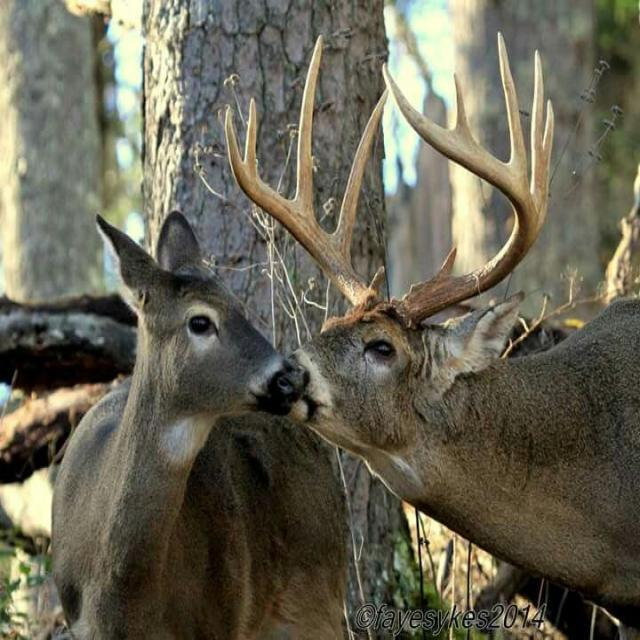L-F: (382, 61, 539, 330)
L-G1: (429, 246, 458, 281)
L-G3: (530, 48, 545, 217)
L-G4: (497, 30, 529, 189)
R-G2: (331, 89, 389, 262)
R-G3: (294, 34, 322, 220)
R-G4: (243, 95, 257, 183)
